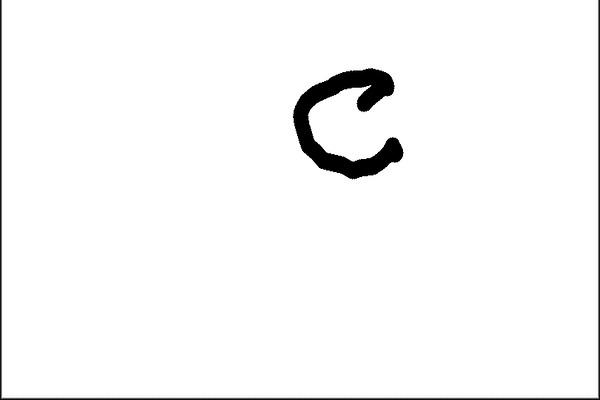C: (287, 61, 408, 182)
